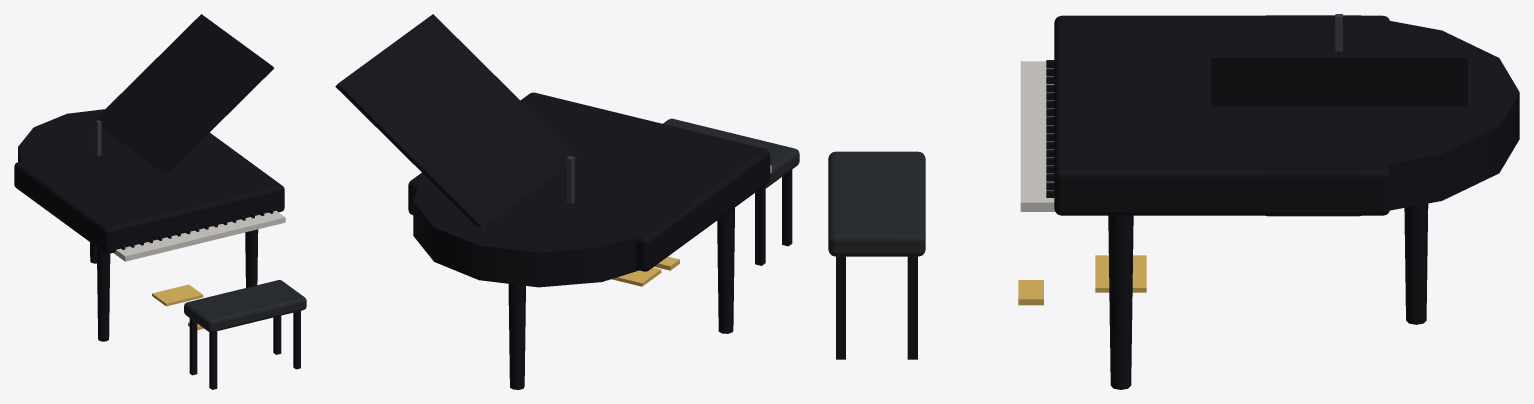
The model's file is piano.glb.
The picture shows the model from 3 angles, left to right: view 1: azimuth 30°, elevation 25°; view 2: azimuth 150°, elevation 25°; view 3: azimuth 270°, elevation 25°; orthographic projection. The views are drawn at different scales.
Parts seen in each view (by area): view 1: piano_malha; view 2: piano_malha; view 3: piano_malha.
Part boxes in pixels (x1,y1,x2,y2): piano_malha: (14, 14, 306, 389); piano_malha: (335, 14, 799, 389); piano_malha: (828, 14, 1519, 389).
Bounding box in the file's own units: 1.72 × 1.61 × 2.69.
